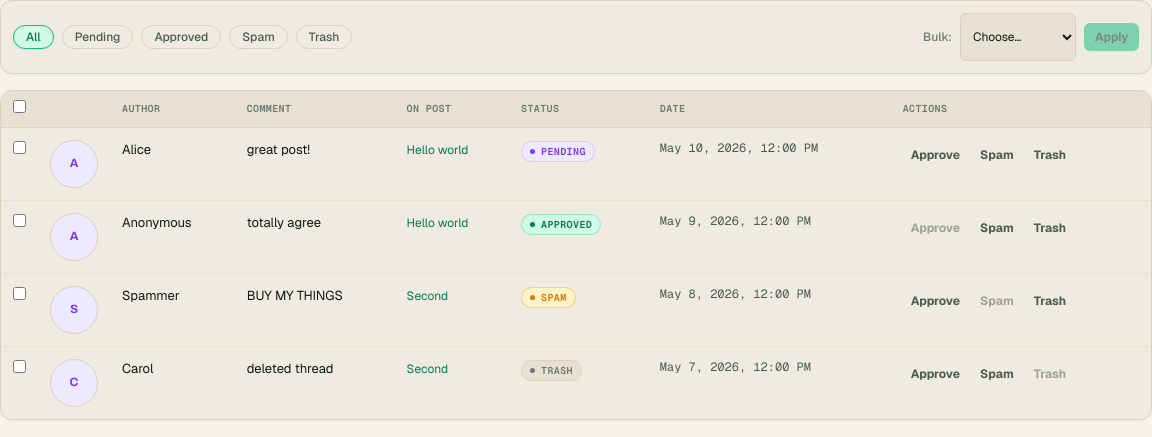
CommentListClient › bulk Apply is disabled until selection + action chosen
Check: the button "Apply" is disabled, box [1084,23,1139,51]
Select "Approve" in the dropdown labelled "Bulk:" at (1018, 37), box [960,13,1076,61]
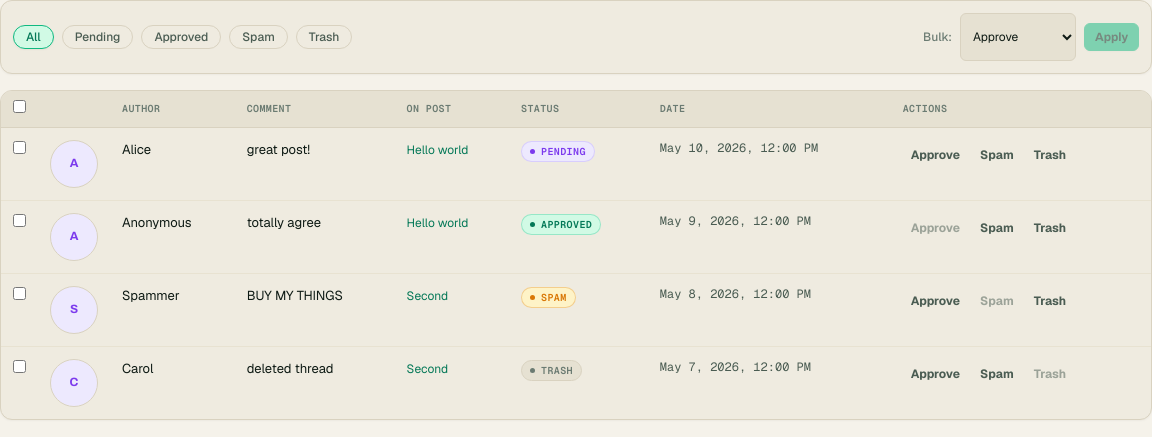
Check: the button "Apply" is disabled, box [1084,23,1139,51]
Click the checkbox named "select comment by alice" at (20, 147), box [13,140,26,154]
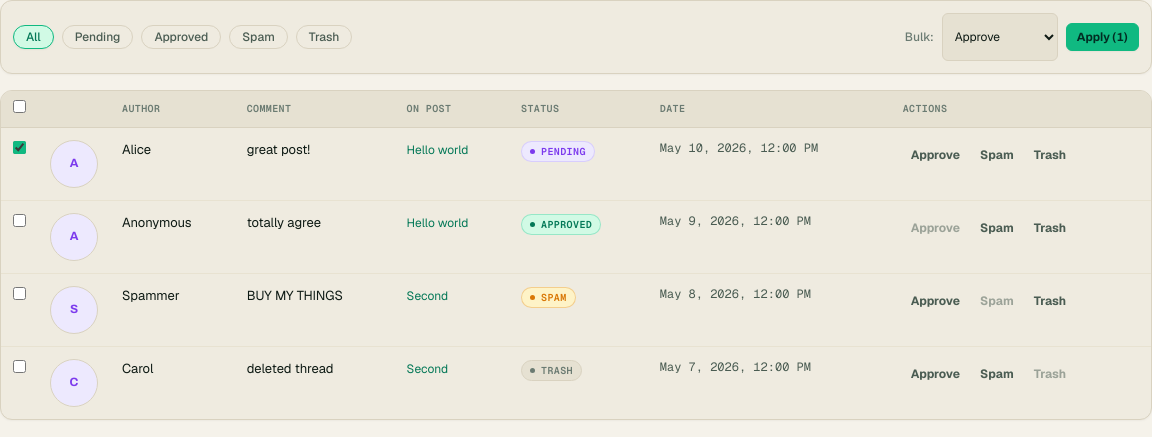
Check: the button "Apply (1)" is enabled, box [1066,23,1139,51]
